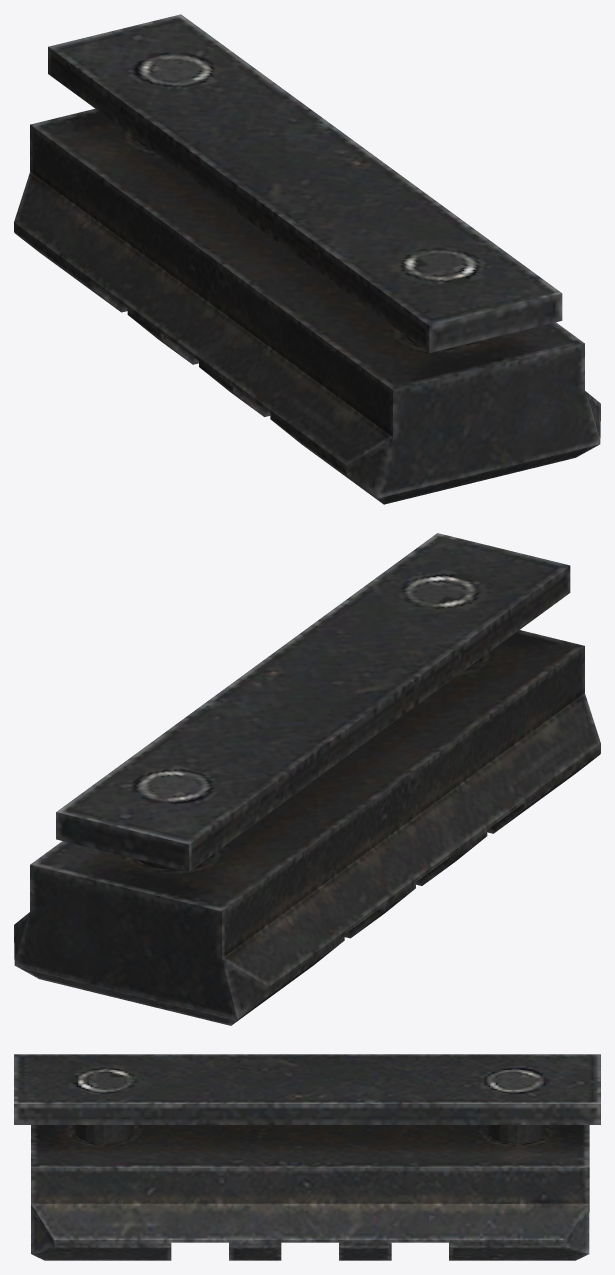
The picture shows the model from 3 angles, top to bottom: view 1: azimuth 30°, elevation 25°; view 2: azimuth 150°, elevation 25°; view 3: azimuth 270°, elevation 25°; orthographic projection. The views are drawn at different scales.
Visible parts, largest first — view 1: TW_5beecbb80db834001d2c465e_PZ_Import; view 2: TW_5beecbb80db834001d2c465e_PZ_Import; view 3: TW_5beecbb80db834001d2c465e_PZ_Import.
Boxes of the visible parts, left/top/right/bottom form: TW_5beecbb80db834001d2c465e_PZ_Import: left=14, top=14, right=600, bottom=504; TW_5beecbb80db834001d2c465e_PZ_Import: left=14, top=533, right=600, bottom=1025; TW_5beecbb80db834001d2c465e_PZ_Import: left=14, top=1054, right=600, bottom=1260.
Size of the model in its own units: 0.0119 by 0.0308 by 0.00836.
1 material, 1 textured.
